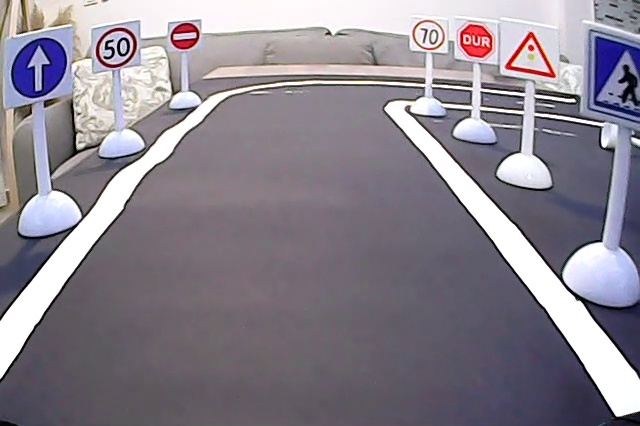do not enter: (167, 21, 201, 52)
pedestrian crossing: (587, 27, 640, 126)
red light: (501, 21, 560, 81)
speed limit 50: (92, 24, 140, 71)
speed limit 70: (410, 16, 447, 53)
stop sign: (452, 16, 496, 62)
